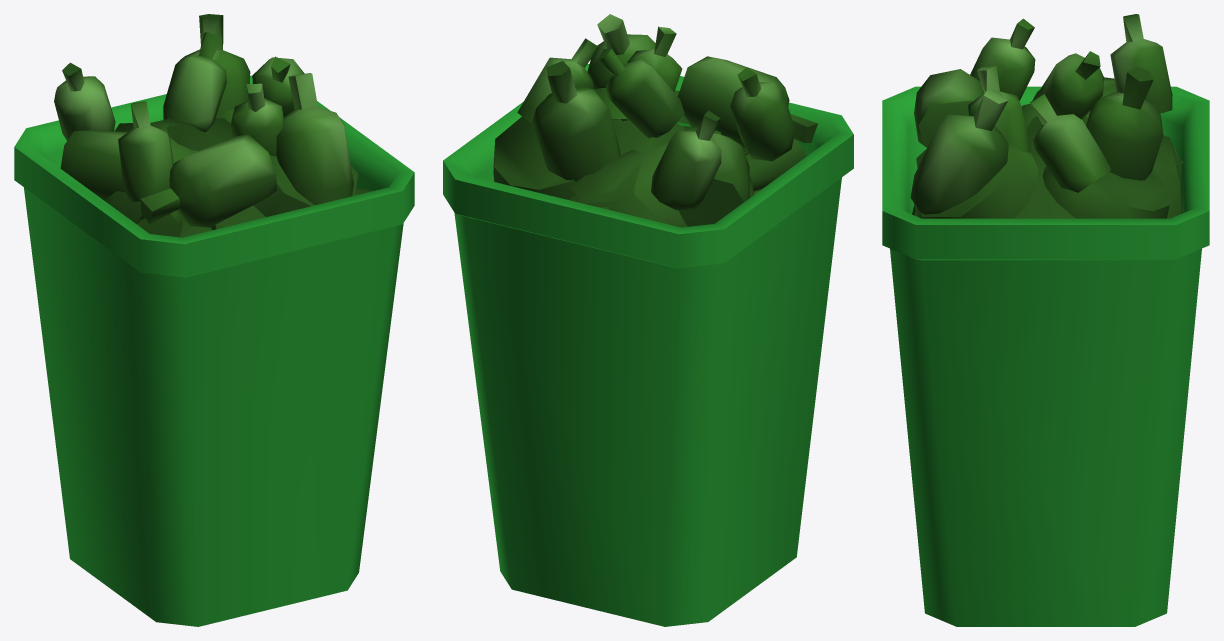
Rendered from SM_Bin_Green.glb.
3 renders of one model, left to right at view 1: azimuth 30°, elevation 25°; view 2: azimuth 150°, elevation 25°; view 3: azimuth 270°, elevation 25°, orthographic. The views are drawn at different scales.
Visible parts, largest first — view 1: SM_Bin_Green, SM_Trash_Green; view 2: SM_Bin_Green, SM_Trash_Green; view 3: SM_Bin_Green, SM_Trash_Green.
Boxes of the visible parts, x1=… form: SM_Bin_Green: x1=14, y1=75, x2=414, y2=626; SM_Trash_Green: x1=54, y1=14, x2=372, y2=237; SM_Bin_Green: x1=443, y1=64, x2=853, y2=626; SM_Trash_Green: x1=493, y1=14, x2=817, y2=227; SM_Bin_Green: x1=882, y1=86, x2=1209, y2=626; SM_Trash_Green: x1=910, y1=14, x2=1184, y2=218.
Size of the model in its own units: 0.7113 by 1.28 by 0.7113.
